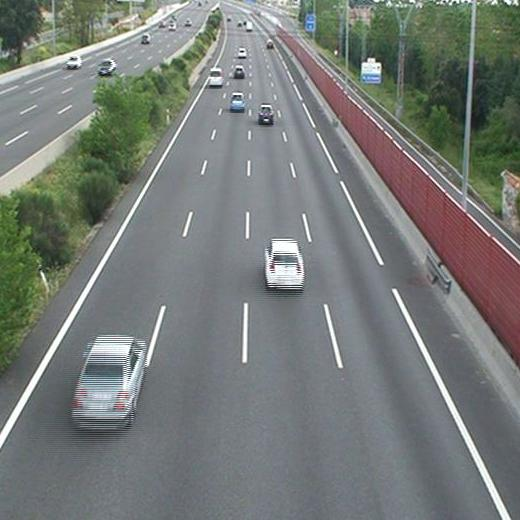car: (71, 335, 144, 427), (263, 239, 305, 288), (258, 106, 274, 124), (230, 92, 245, 110), (233, 66, 244, 78), (237, 49, 247, 58), (266, 40, 274, 48)
van: (208, 69, 224, 85)
